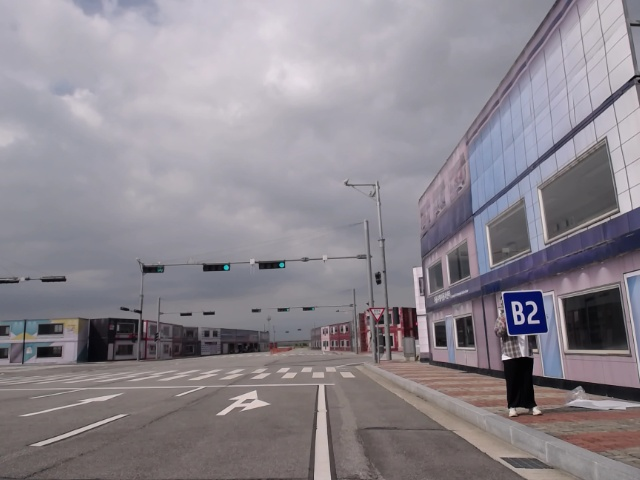delivery_b2: (499, 289, 549, 337)
straight_green_4: (257, 258, 288, 270), (200, 262, 232, 273), (301, 305, 318, 313), (276, 307, 292, 313)
